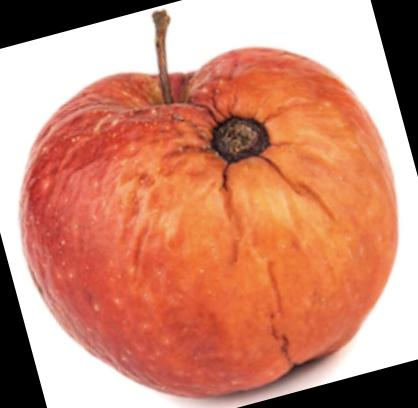Apple: (22, 47, 388, 399)
